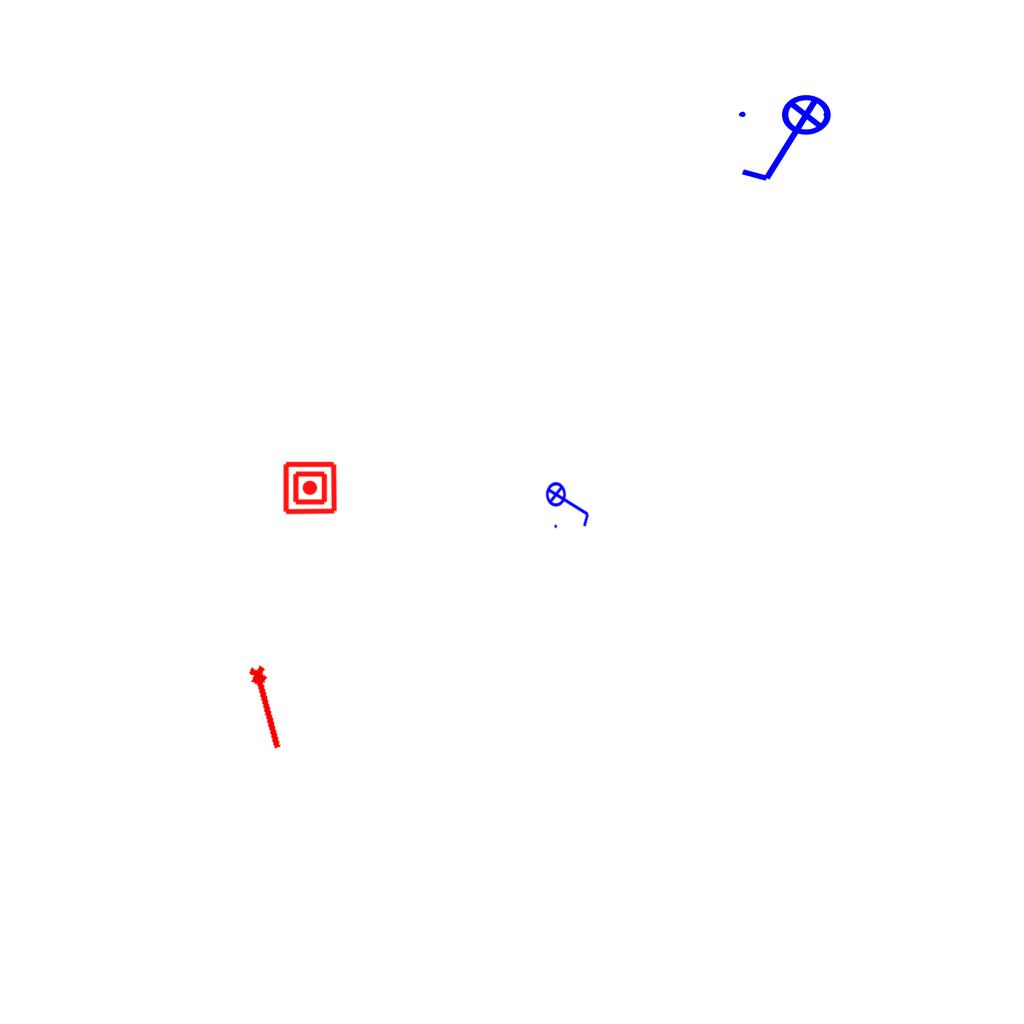ASR_Ansaugoeffnung: (245, 662, 291, 753)
Ausschalter_beleuchtet: (733, 93, 845, 189), (545, 475, 593, 531)
NAM-Nichtautomatischer_Melder: (282, 460, 338, 516)
